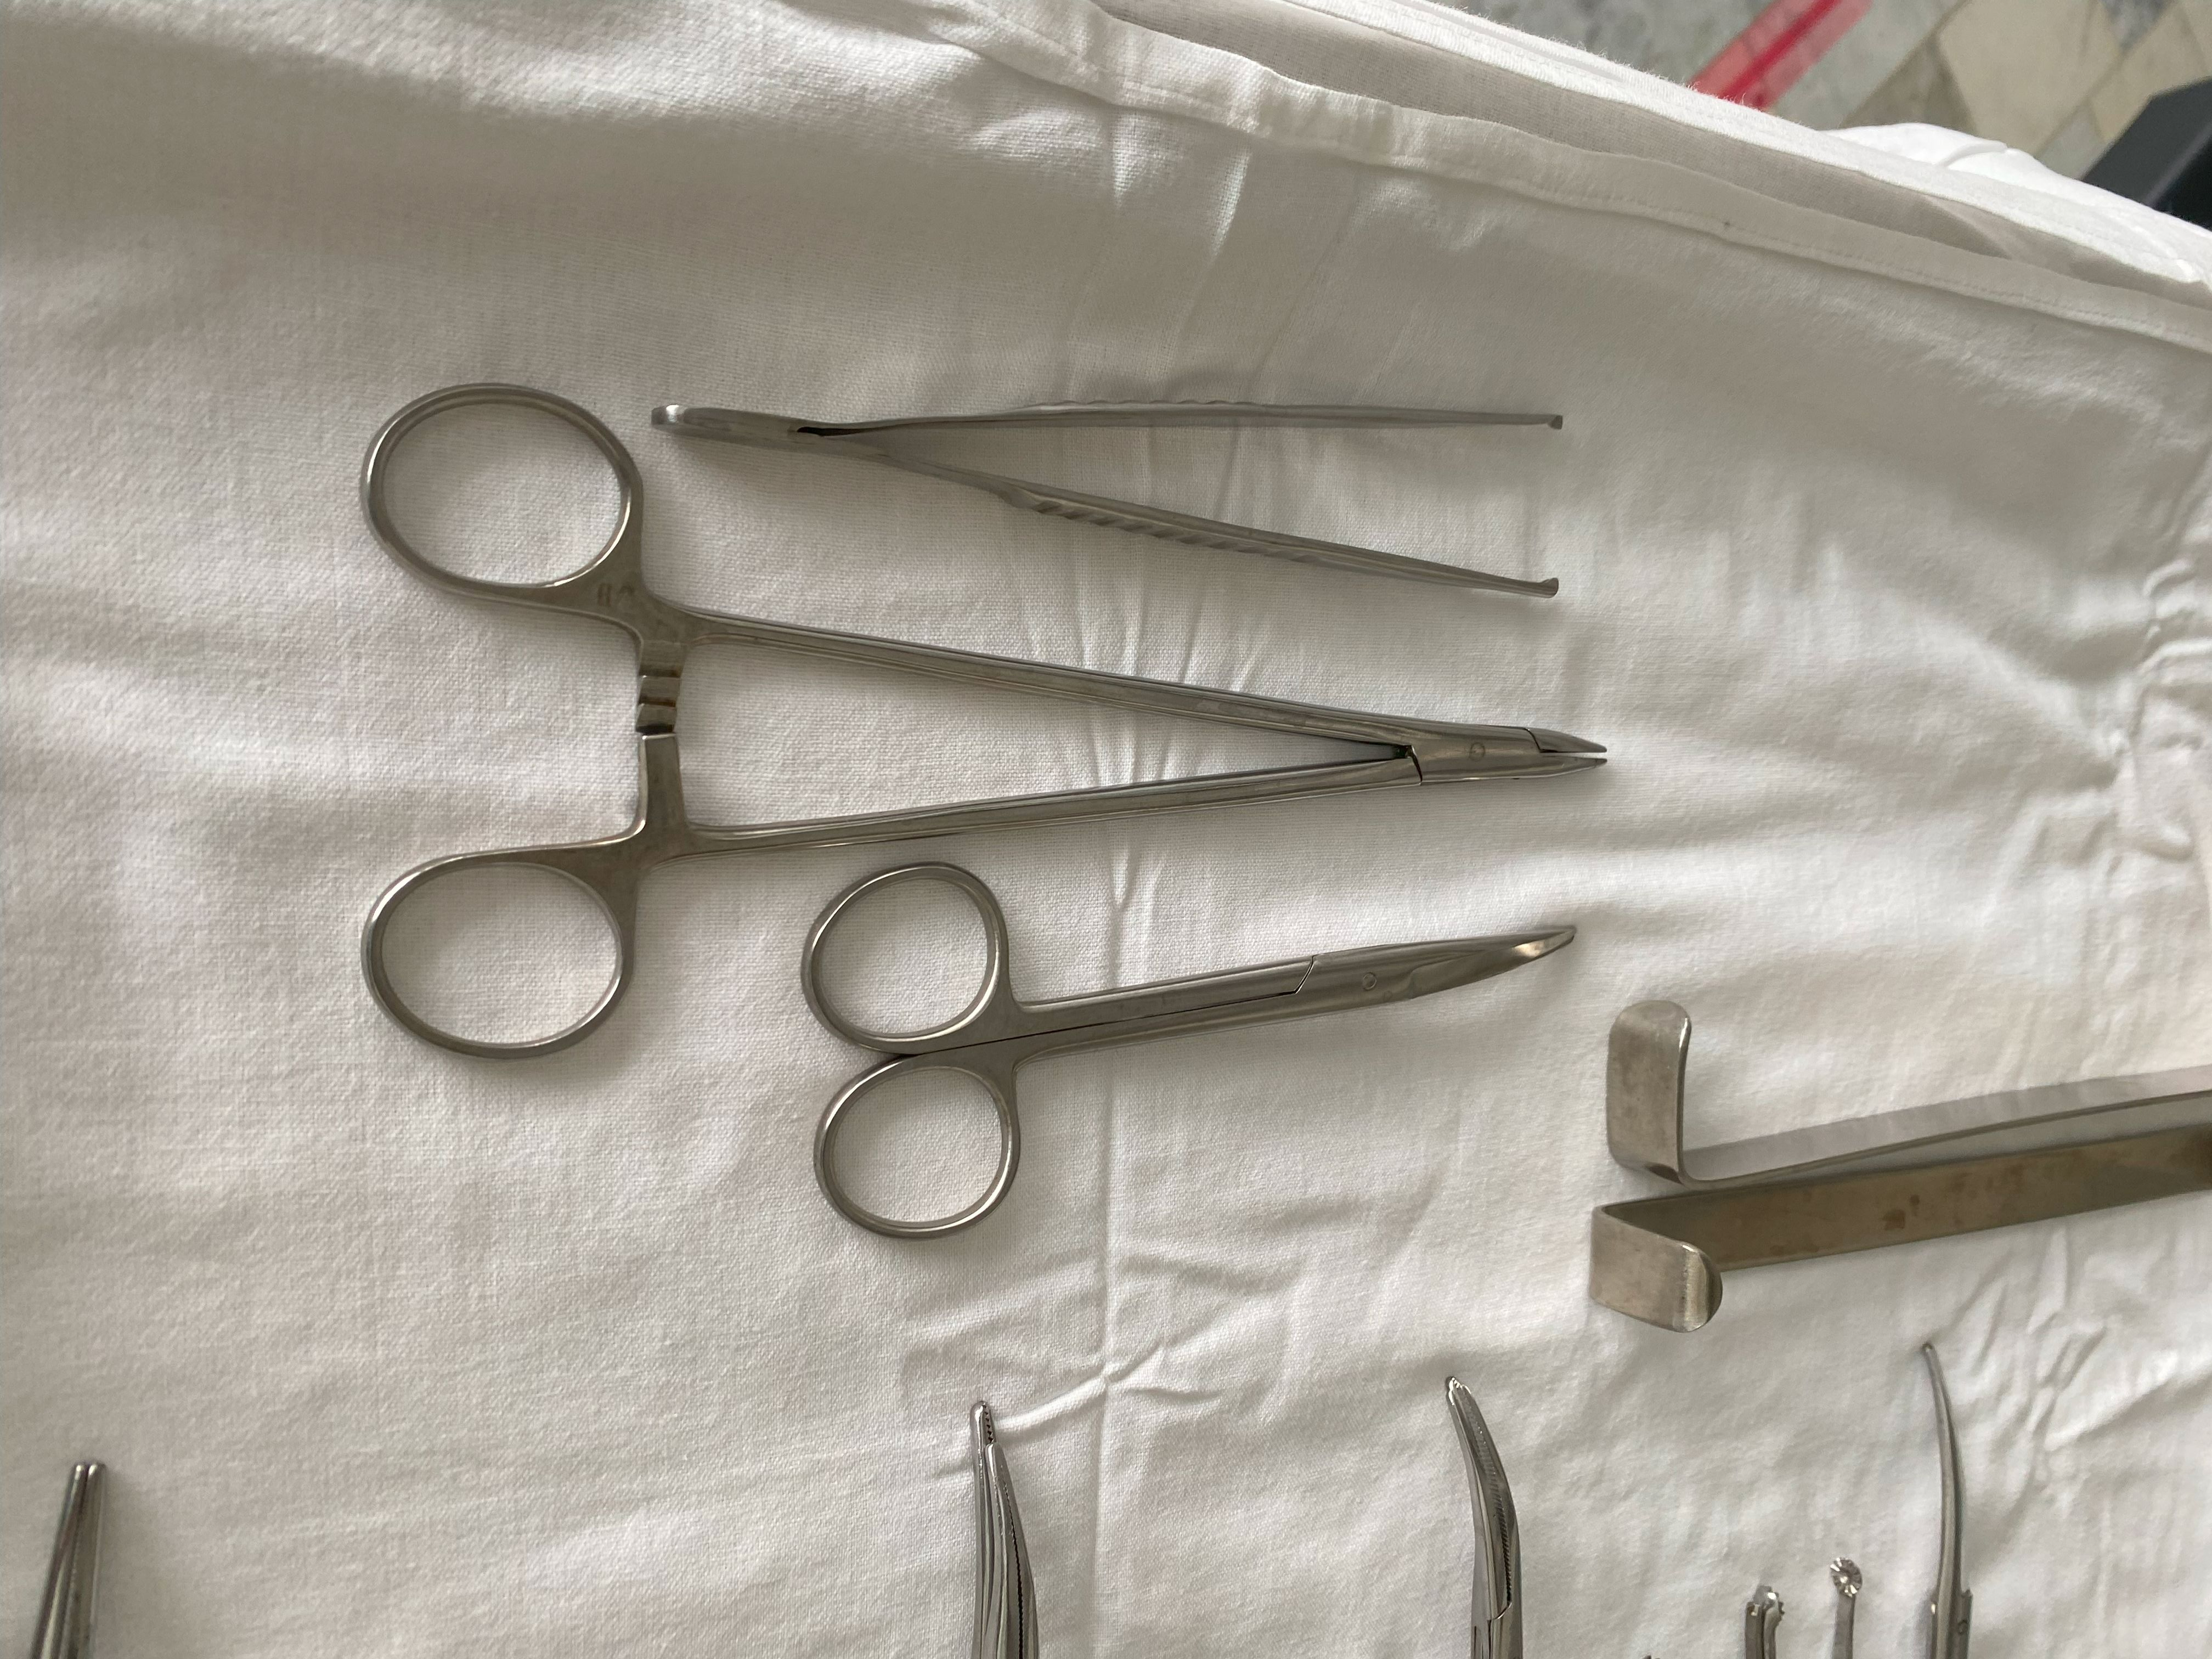clamp: (362, 383, 1606, 1058)
scissors: (801, 863, 1575, 1239)
tweezers: (651, 401, 1562, 596)
